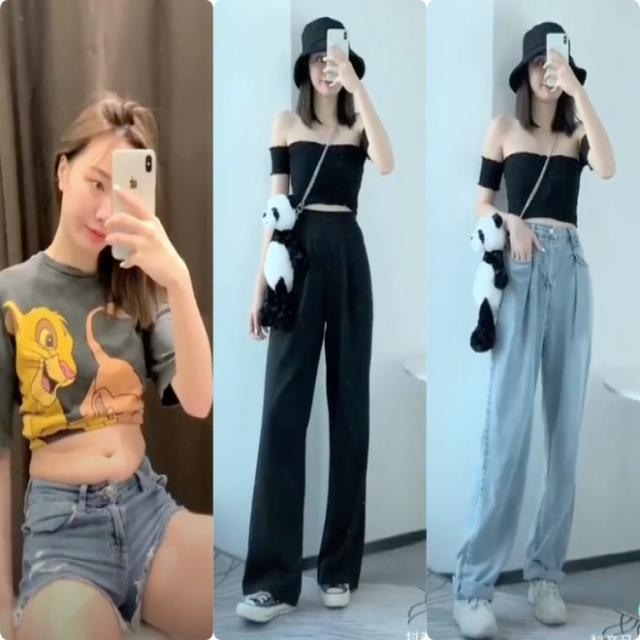clothes: (0, 249, 222, 627), (243, 107, 384, 617), (453, 125, 595, 600)
